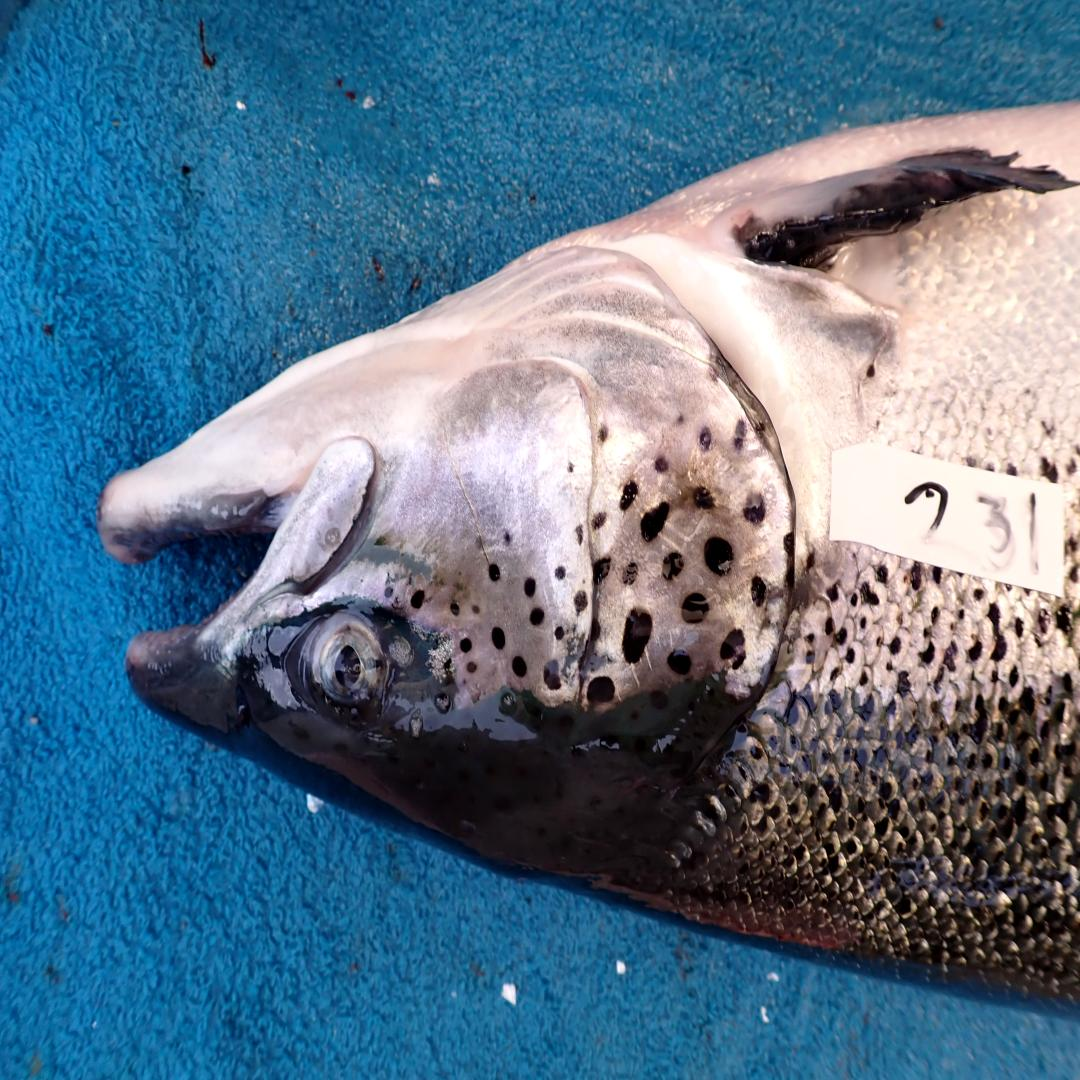roi: (371, 236, 791, 716)
